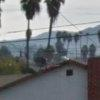Palm tree: (17, 2, 58, 55)
